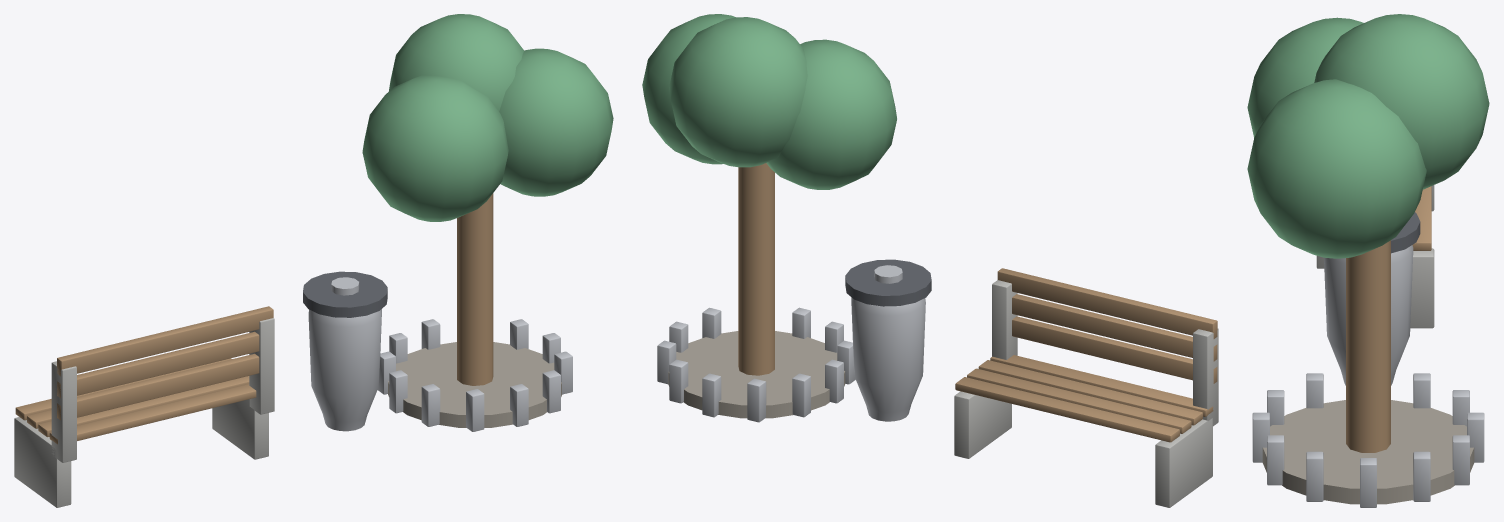
File: th42_schulbank.glb
The picture shows the model from 3 angles, left to right: view 1: azimuth 30°, elevation 25°; view 2: azimuth 150°, elevation 25°; view 3: azimuth 270°, elevation 25°; orthographic projection. The views are drawn at different scales.
Visible parts, largest first — view 1: Sphere, Sphere.002, Sphere.001, Cylinder.002, Behaelter, Cylinder.003, Cube.010, Cube.008, Cube.009, Cube, Cylinder, Cube.004 (+10 smaller); view 2: Sphere.001, Sphere, Cylinder.002, Cylinder.003, Behaelter, Cube.010, Sphere.002, Cube.008, Cube.009, Cube, Cube.007, Cylinder (+12 smaller); view 3: Sphere.002, Sphere.001, Cylinder.002, Cylinder.003, Sphere, Behaelter, Cube.002, Cube.012, Cube.022, Cube.013, Cube.021, Cube.007 (+8 smaller).
Part boxes in pixels (box(x1,y1,x2,y2)): Sphere: box(362, 75, 508, 221); Sphere.002: box(499, 48, 613, 196); Sphere.001: box(389, 14, 524, 111); Cylinder.002: box(388, 342, 561, 427); Behaelter: box(308, 309, 381, 431); Cylinder.003: box(457, 193, 493, 385); Cube.010: box(57, 306, 273, 376); Cube.008: box(57, 353, 259, 420); Cube.009: box(57, 331, 259, 398); Cube: box(14, 417, 71, 507); Cylinder: box(303, 271, 387, 317); Cube.004: box(49, 384, 256, 444); Sphere.001: box(669, 17, 807, 167); Sphere: box(766, 39, 896, 189); Cylinder.002: box(668, 331, 845, 418); Cylinder.003: box(738, 163, 774, 375); Behaelter: box(851, 297, 925, 421); Cube.010: box(997, 268, 1217, 338); Sphere.002: box(642, 14, 735, 164); Cube.008: box(1012, 316, 1217, 383); Cube.009: box(1012, 294, 1217, 361); Cube: box(1155, 418, 1212, 507); Cube.007: box(955, 377, 1179, 442); Cylinder: box(845, 259, 931, 306); Sphere.002: box(1247, 79, 1426, 258); Sphere.001: box(1314, 14, 1489, 189); Cylinder.002: box(1262, 400, 1474, 504); Cylinder.003: box(1346, 240, 1390, 452); Sphere: box(1247, 17, 1363, 137); Behaelter: box(1324, 245, 1413, 385); Cube.002: box(1410, 248, 1434, 328); Cube.012: box(1413, 451, 1430, 501); Cube.022: box(1306, 451, 1323, 501); Cube.013: box(1452, 435, 1469, 485); Cube.021: box(1267, 435, 1284, 485); Cube.007: box(1412, 186, 1431, 250).
Bounding box in the file's own units: 4.45 × 2.79 × 1.4.
